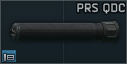KAC PRS%5QDC 7.62x51 sound suppressor: (0, 0, 127, 64)
